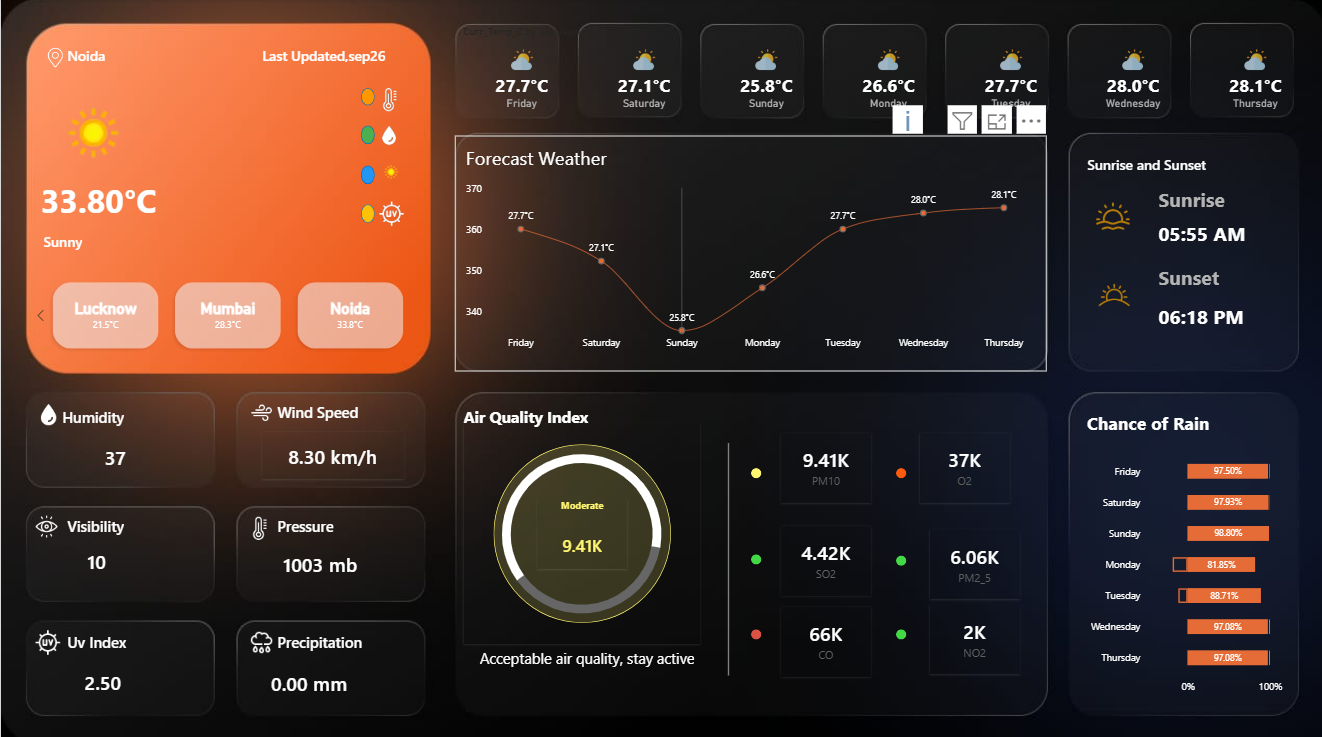

What the dashboard file says about the page in this screenshot:
{"tool":"powerbi","page":{"name":"Page 1","canvas":[1920,1080],"ordinal":0},"visuals":[{"type":"shape","box":[713,646,257,258.8],"z":0},{"type":"advancedSlicerVisual","fields":{"Values":["Locations.location.name"]},"box":[47.8,404.4,563.3,112.2],"z":1000},{"type":"shape","box":[57.9,260.6,271.4,61.5],"z":2000},{"type":"shape","box":[61.5,331.2,221.1,42.2],"z":3000},{"type":"shape","box":[95.9,65.1,172.2,35.6],"z":4000},{"type":"shape","box":[378.2,59.7,186.4,45.2],"z":5000},{"type":"image","box":[61.5,68.8,34.4,36.2],"z":6000},{"type":"cardVisual","fields":{"Data":["Min(current.current.condition.icon)"]},"box":[16.3,0,235.3,260.6],"z":7000},{"type":"image","box":[342,751,66.2,33.8],"z":8000},{"type":"image","box":[45.2,749.2,41.2,32.4],"z":9000},{"type":"image","box":[341.2,583.8,70.6,32.4],"z":10000},{"type":"image","box":[341.2,913.2,70.6,38.2],"z":11000},{"type":"image","box":[52.5,577.3,32.6,52.5],"z":12000},{"type":"image","box":[47.1,913.2,41.2,38.2],"z":13000},{"type":"shape","box":[88.2,583.8,155.9,45.6],"z":14000},{"type":"shape","box":[400,577.9,164.7,42.6],"z":15000},{"type":"shape","box":[95.9,743.8,155.9,39.7],"z":16000},{"type":"shape","box":[399.9,742,205.6,44.4],"z":17000},{"type":"shape","box":[95.9,910.3,205.6,44.4],"z":18000},{"type":"shape","box":[400,910.3,205.6,44.4],"z":19000},{"type":"cardVisual","fields":{"Data":["_Measures.Humidity"]},"box":[79.6,626.1,172.1,76.5],"z":20000},{"type":"cardVisual","fields":{"Data":["_Measures.Wind_Speed"]},"box":[378,628.8,204.4,69.1],"z":21000},{"type":"cardVisual","fields":{"Data":["_Measures.Pressure"]},"box":[376.5,782.4,172.1,76.5],"z":22000},{"type":"cardVisual","fields":{"Data":["_Measures.Visibility"]},"box":[52.9,776.5,172.1,76.5],"z":23000},{"type":"cardVisual","fields":{"Data":["_Measures.UV_Index"]},"box":[61.8,951.5,172.1,76.5],"z":24000},{"type":"cardVisual","fields":{"Data":["_Measures.Precipitation"]},"box":[360.3,954.4,172.1,76.5],"z":25000},{"type":"advancedSlicerVisual","fields":{"Label":["_Measures.Curr_Temp_C"],"Values":["forcaste_day.Day_Name"]},"box":[669.6,39.8,1232.2,130.5],"z":26000},{"type":"lineChart","title":"Forecast Weather","fields":{"Y":["Sum(forcaste_day.forecast.forecastday.day.avgtemp_c)"],"Category":["forcaste_day.Day_Name"]},"box":[657.6,198.3,857.6,342.4],"z":27000},{"type":"shape","box":[1572.9,213.6,262.7,55.9],"z":28000},{"type":"shape","box":[1675.7,311.3,159.3,57.9],"z":29000},{"type":"shape","box":[1675.7,372.8,244.3,61.5],"z":30000},{"type":"shape","box":[1675.7,260.6,244.3,61.5],"z":31000},{"type":"shape","box":[1675.7,428.9,244.3,61.5],"z":32000},{"type":"image","box":[1572.6,291.4,74.2,48.9],"z":33000},{"type":"image","box":[1574.4,399.9,74.2,59.7],"z":34000},{"type":"hundredPercentStackedBarChart","title":"Chance of Rain","fields":{"Y":["Sum(current.forecast.forecastday.hour.chance_of_rain)","current.Left_value_Rain"],"Category":["forcaste_day.Day_Name"]},"box":[1556.3,584.5,314.9,443.4],"z":35000},{"type":"shape","box":[669.6,575.5,247.9,61.5],"z":36000},{"type":"cardVisual","fields":{"Data":["Sum(current.current.air_quality.so2)"]},"box":[1129.2,763.7,130.3,101.3],"z":37000},{"type":"cardVisual","fields":{"Data":["Sum(current.current.air_quality.co)"]},"box":[1129.2,881.3,130.3,101.3],"z":38000},{"type":"cardVisual","fields":{"Data":["Sum(current.current.air_quality.o3)"]},"box":[1330.1,629.8,130.3,101.3],"z":39000},{"type":"cardVisual","fields":{"Data":["Sum(current.current.air_quality.pm10)"]},"box":[1129.2,629.8,130.3,101.3],"z":40000},{"type":"cardVisual","fields":{"Data":["Sum(current.current.air_quality.no2)"]},"box":[1344.6,877.7,130.3,101.3],"z":41000},{"type":"cardVisual","fields":{"Data":["Sum(current.current.air_quality.pm2_5)"]},"box":[1344.6,769.1,130.3,101.3],"z":42000},{"type":"shape","box":[1085.8,680.4,15,15],"z":43000},{"type":"shape","box":[1085.8,913.9,15,15],"z":44000},{"type":"shape","box":[1085.8,805.3,15,15],"z":45000},{"type":"shape","box":[1295.7,680.4,15,15],"z":46000},{"type":"shape","box":[1295.7,807.1,15,15],"z":47000},{"type":"shape","box":[1295.7,913.9,15,15],"z":48000},{"type":"shape","box":[1042.4,644.2,21.7,336.6],"z":49000},{"type":"cardVisual","fields":{"Data":["Sum(current.current.air_quality.pm10)"]},"box":[776.3,725.7,130.3,101.3],"z":50000},{"type":"donutChart","fields":{"Y":["_Measures.left_value_ph10","Sum(current.current.air_quality.pm10)"]},"box":[669.2,617.3,342,318.5],"z":51000},{"type":"shape","box":[693.1,921.1,318.5,68.8],"z":52000},{"type":"shape","box":[521.2,130.3,19.9,25.3],"z":53000},{"type":"shape","box":[521.2,184.6,19.9,27.1],"z":54000},{"type":"shape","box":[521.2,242.5,19.9,27.1],"z":55000},{"type":"image","box":[541.1,184.6,41.6,29],"z":56000},{"type":"cardVisual","fields":{"Data":["Min(current.current.condition.icon)"]},"box":[541.1,199.1,47.1,70.6],"z":57000},{"type":"shape","box":[521.2,298.6,19.9,27.1],"z":58000},{"type":"image","box":[530.2,130.3,66.2,33.8],"z":59000},{"type":"image","box":[544.7,293.2,41.2,38.2],"z":60000}]}

Visuals, with their boxes in screenshot pixels (x1, y1, x2, y2), scaled from the page's 1920x1080 canvas onto the 1322x737 screenshot:
shape: <region>491, 441, 668, 617</region>
advancedSlicerVisual - Locations.location.name: <region>33, 276, 421, 353</region>
shape: <region>40, 178, 227, 220</region>
shape: <region>42, 226, 195, 255</region>
shape: <region>66, 44, 185, 69</region>
shape: <region>260, 41, 389, 72</region>
image: <region>42, 47, 66, 72</region>
cardVisual - Min(current.current.condition.icon): <region>11, 0, 173, 178</region>
image: <region>235, 512, 281, 536</region>
image: <region>31, 511, 59, 533</region>
image: <region>235, 398, 284, 420</region>
image: <region>235, 623, 284, 649</region>
image: <region>36, 394, 59, 430</region>
image: <region>32, 623, 61, 649</region>
shape: <region>61, 398, 168, 430</region>
shape: <region>275, 394, 389, 423</region>
shape: <region>66, 508, 173, 535</region>
shape: <region>275, 506, 417, 537</region>
shape: <region>66, 621, 208, 651</region>
shape: <region>275, 621, 417, 651</region>
cardVisual - _Measures.Humidity: <region>55, 427, 173, 479</region>
cardVisual - _Measures.Wind_Speed: <region>260, 429, 401, 476</region>
cardVisual - _Measures.Pressure: <region>259, 534, 378, 586</region>
cardVisual - _Measures.Visibility: <region>36, 530, 155, 582</region>
cardVisual - _Measures.UV_Index: <region>43, 649, 161, 702</region>
cardVisual - _Measures.Precipitation: <region>248, 651, 367, 703</region>
advancedSlicerVisual - _Measures.Curr_Temp_C x forcaste_day.Day_Name: <region>461, 27, 1309, 116</region>
"Forecast Weather" lineChart: <region>453, 135, 1043, 369</region>
shape: <region>1083, 146, 1264, 184</region>
shape: <region>1154, 212, 1263, 252</region>
shape: <region>1154, 254, 1321, 296</region>
shape: <region>1154, 178, 1321, 220</region>
shape: <region>1154, 293, 1321, 335</region>
image: <region>1083, 199, 1134, 232</region>
image: <region>1084, 273, 1135, 314</region>
"Chance of Rain" hundredPercentStackedBarChart: <region>1072, 399, 1288, 701</region>
shape: <region>461, 393, 632, 435</region>
cardVisual - Sum(current.current.air_quality.so2): <region>778, 521, 867, 590</region>
cardVisual - Sum(current.current.air_quality.co): <region>778, 601, 867, 671</region>
cardVisual - Sum(current.current.air_quality.o3): <region>916, 430, 1006, 499</region>
cardVisual - Sum(current.current.air_quality.pm10): <region>778, 430, 867, 499</region>
cardVisual - Sum(current.current.air_quality.no2): <region>926, 599, 1016, 668</region>
cardVisual - Sum(current.current.air_quality.pm2_5): <region>926, 525, 1016, 594</region>
shape: <region>748, 464, 758, 475</region>
shape: <region>748, 624, 758, 634</region>
shape: <region>748, 550, 758, 560</region>
shape: <region>892, 464, 902, 475</region>
shape: <region>892, 551, 902, 561</region>
shape: <region>892, 624, 902, 634</region>
shape: <region>718, 440, 733, 669</region>
cardVisual - Sum(current.current.air_quality.pm10): <region>535, 495, 624, 564</region>
donutChart - _Measures.left_value_ph10 x Sum(current.current.air_quality.pm10): <region>461, 421, 696, 639</region>
shape: <region>477, 629, 697, 676</region>
shape: <region>359, 89, 373, 106</region>
shape: <region>359, 126, 373, 144</region>
shape: <region>359, 165, 373, 184</region>
image: <region>373, 126, 401, 146</region>
cardVisual - Min(current.current.condition.icon): <region>373, 136, 405, 184</region>
shape: <region>359, 204, 373, 222</region>
image: <region>365, 89, 411, 112</region>
image: <region>375, 200, 403, 226</region>
